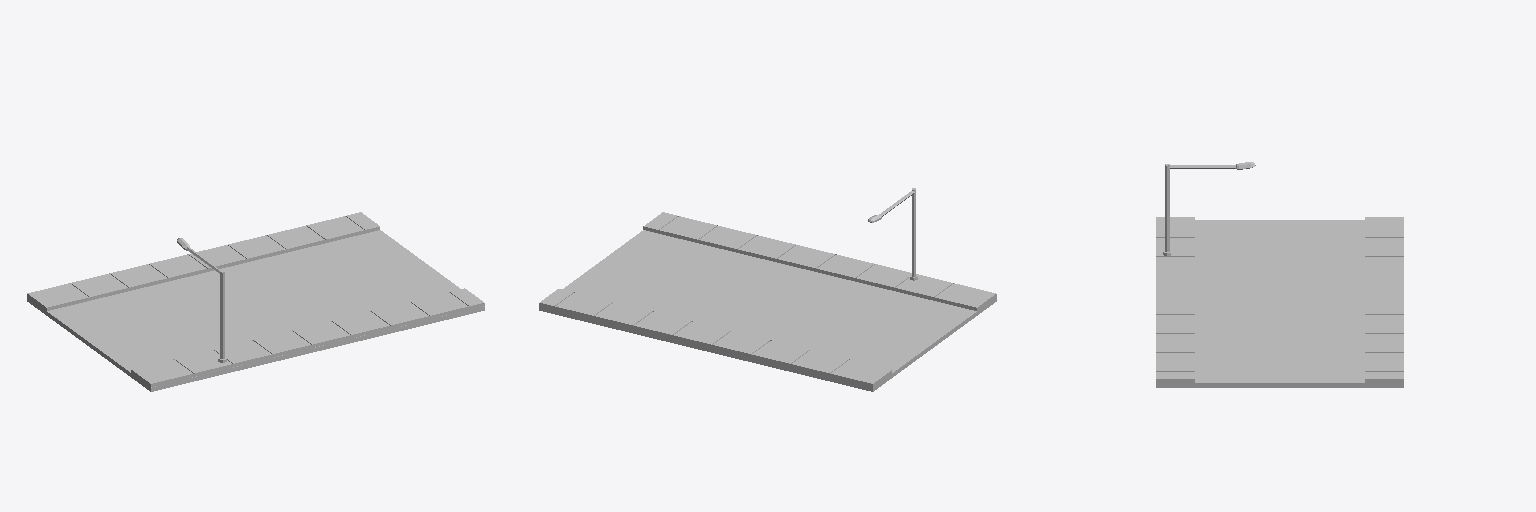
3 renders of one model, left to right at view 1: azimuth 30°, elevation 25°; view 2: azimuth 150°, elevation 25°; view 3: azimuth 270°, elevation 25°, orthographic.
Visible parts, largest first — view 1: Объект_Куб, Объект_Куб.1-Ноль_объект, Объект_Куб.1-Ноль_объект_1; view 2: Объект_Куб, Объект_Куб.1-Ноль_объект_1, Объект_Куб.1-Ноль_объект; view 3: Объект_Куб, Объект_Куб.1-Ноль_объект_1, Объект_Куб.1-Ноль_объект.
Part boxes in pixels (bbox=[...]): Объект_Куб: bbox=[27, 230, 484, 391]; Объект_Куб.1-Ноль_объект: bbox=[131, 288, 484, 386]; Объект_Куб.1-Ноль_объект_1: bbox=[27, 212, 379, 310]; Объект_Куб: bbox=[539, 230, 996, 391]; Объект_Куб.1-Ноль_объект_1: bbox=[539, 289, 891, 387]; Объект_Куб.1-Ноль_объект: bbox=[643, 212, 996, 311]; Объект_Куб: bbox=[1156, 220, 1403, 387]; Объект_Куб.1-Ноль_объект_1: bbox=[1365, 217, 1403, 383]; Объект_Куб.1-Ноль_объект: bbox=[1156, 217, 1194, 383].
Bounding box in the file's own units: 659 × 189 × 423.